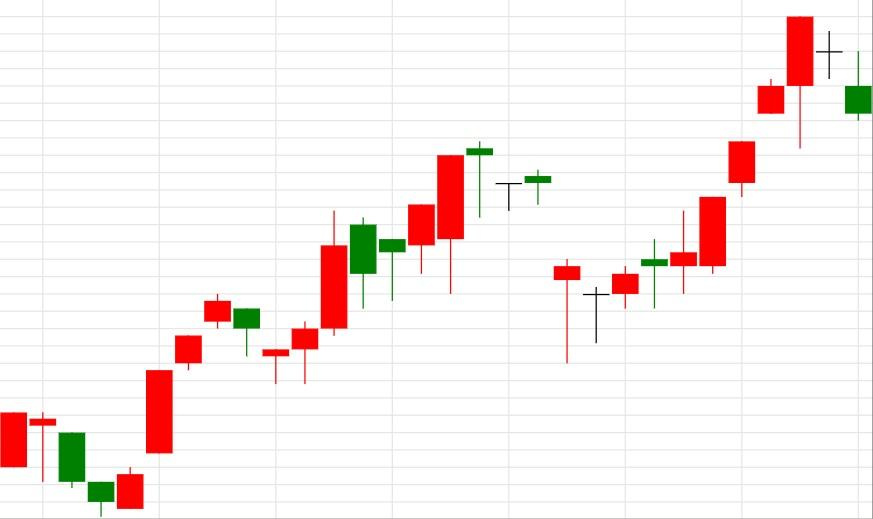three_white_soldiers_rise: (0, 334, 203, 517)
